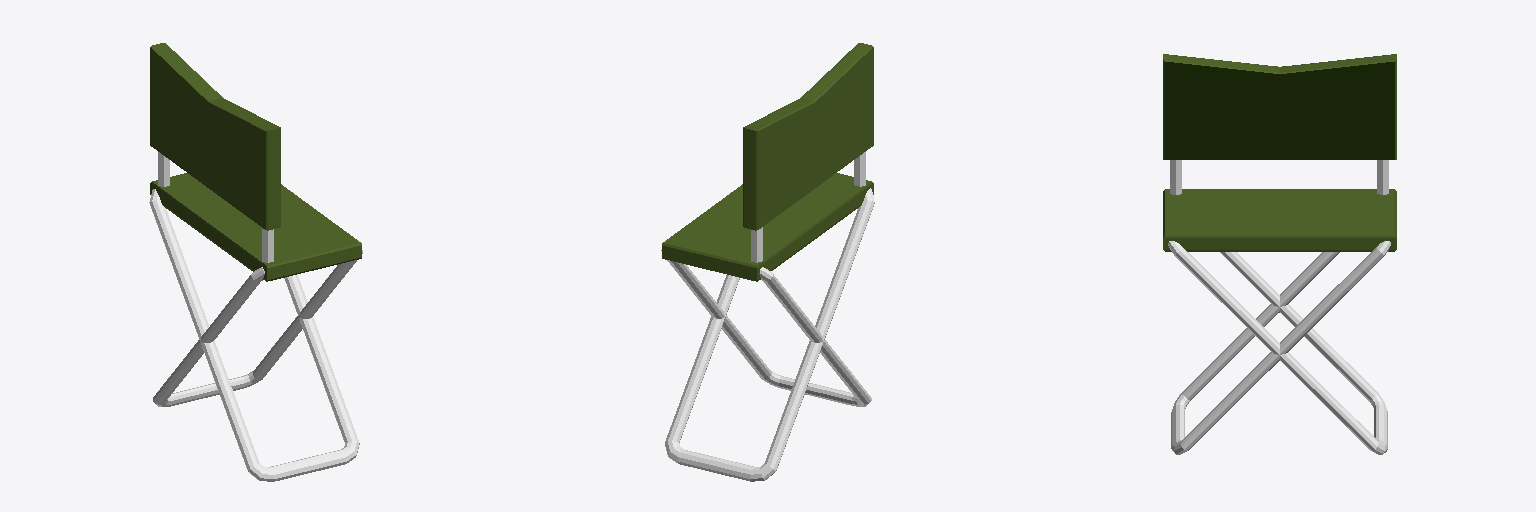
The picture shows the model from 3 angles: view 1: azimuth 30°, elevation 25°; view 2: azimuth 150°, elevation 25°; view 3: azimuth 270°, elevation 25°; orthographic projection.
Visible parts, largest first — view 1: Chair; view 2: Chair; view 3: Chair.
Boxes of the visible parts, box(x1,y1,x2,y2) form: Chair: box(149, 43, 362, 481); Chair: box(661, 43, 874, 481); Chair: box(1163, 54, 1396, 454).
Size of the model in its own units: 0.3215 by 0.9891 by 0.5837.
1 materials, 1 textured.